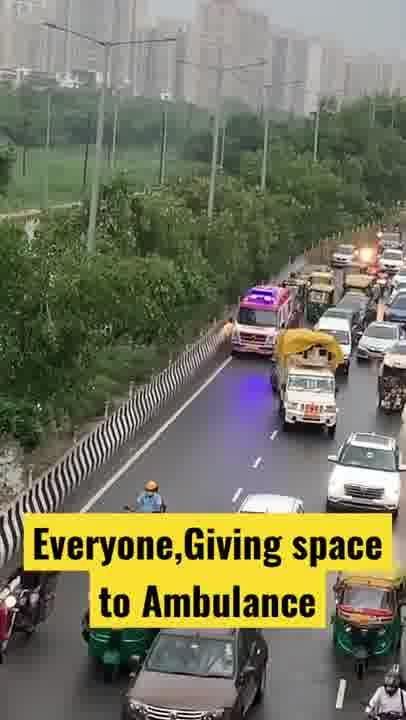AMBULANCE: (228, 280, 291, 347)
